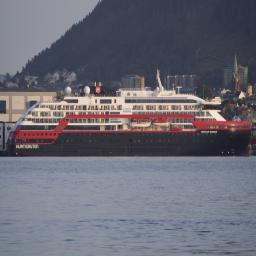cruises: (4, 81, 254, 161)
